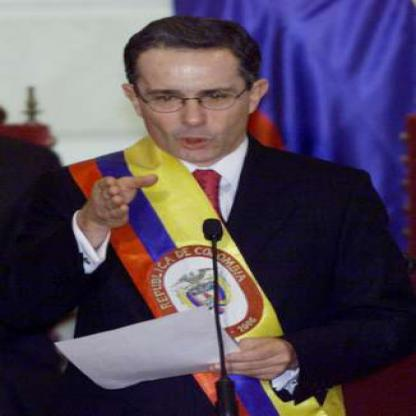face: (138, 28, 253, 165)
